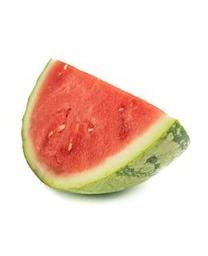watermelon: (20, 56, 192, 198)
